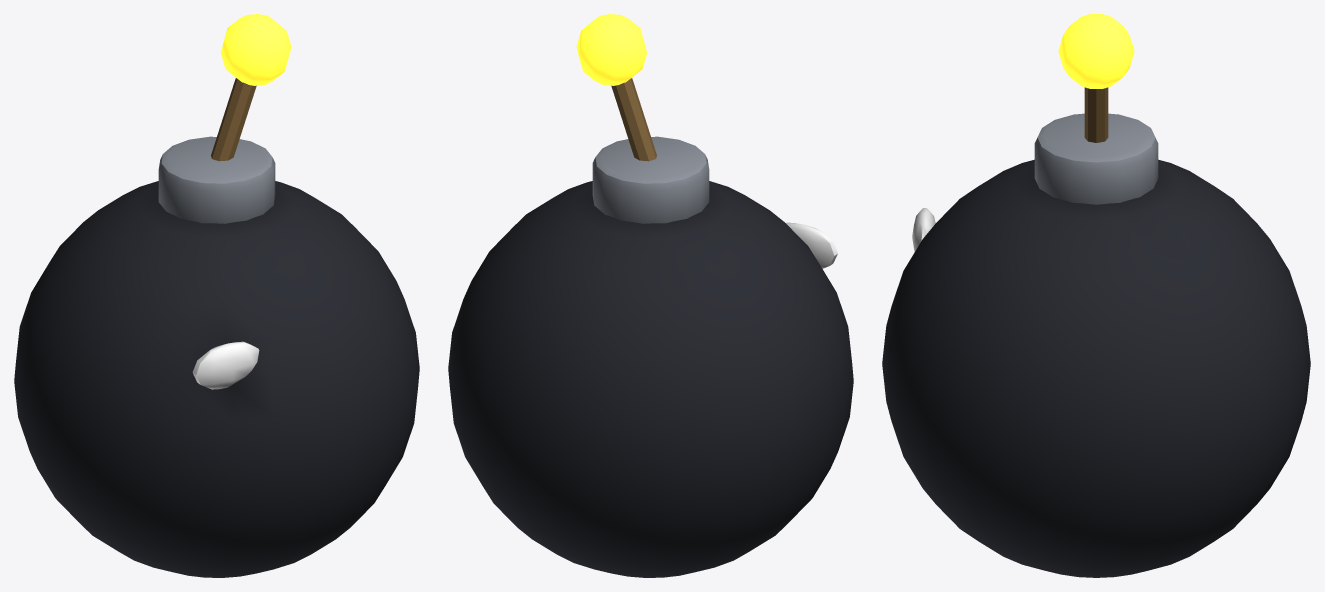
Rendered from bl_bomb.glb.
3 renders of one model, left to right at view 1: azimuth 30°, elevation 25°; view 2: azimuth 150°, elevation 25°; view 3: azimuth 270°, elevation 25°, orthographic. The views are drawn at different scales.
Parts seen in each view (by area): view 1: bomb; view 2: bomb; view 3: bomb.
Part boxes in pixels (x1,y1,x2,y2): bomb: [14, 14, 419, 577]; bomb: [448, 14, 853, 577]; bomb: [882, 14, 1310, 577].
Size of the model in its own units: 0.9 by 1.3 by 0.9.
